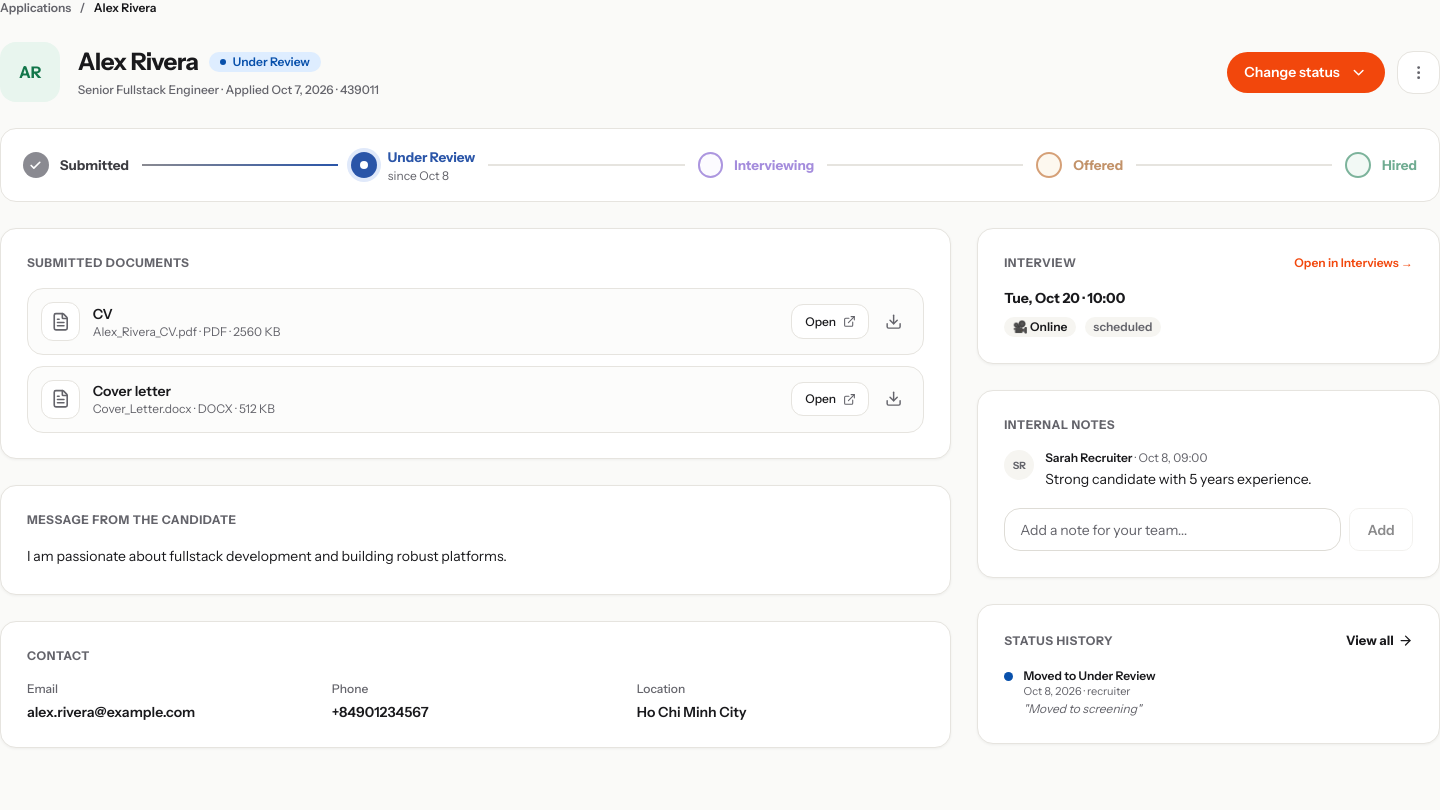
RecruiterApplicationDetailPage › opens status dialog when an action is selected from dropdown menu
The image size is (1440, 810).
Press the mouse on the button "Change status": (1306, 72) left=1226, top=50, right=1386, bottom=94
Press ArrowDown in the button "Change status", box left=1226, top=50, right=1386, bottom=94
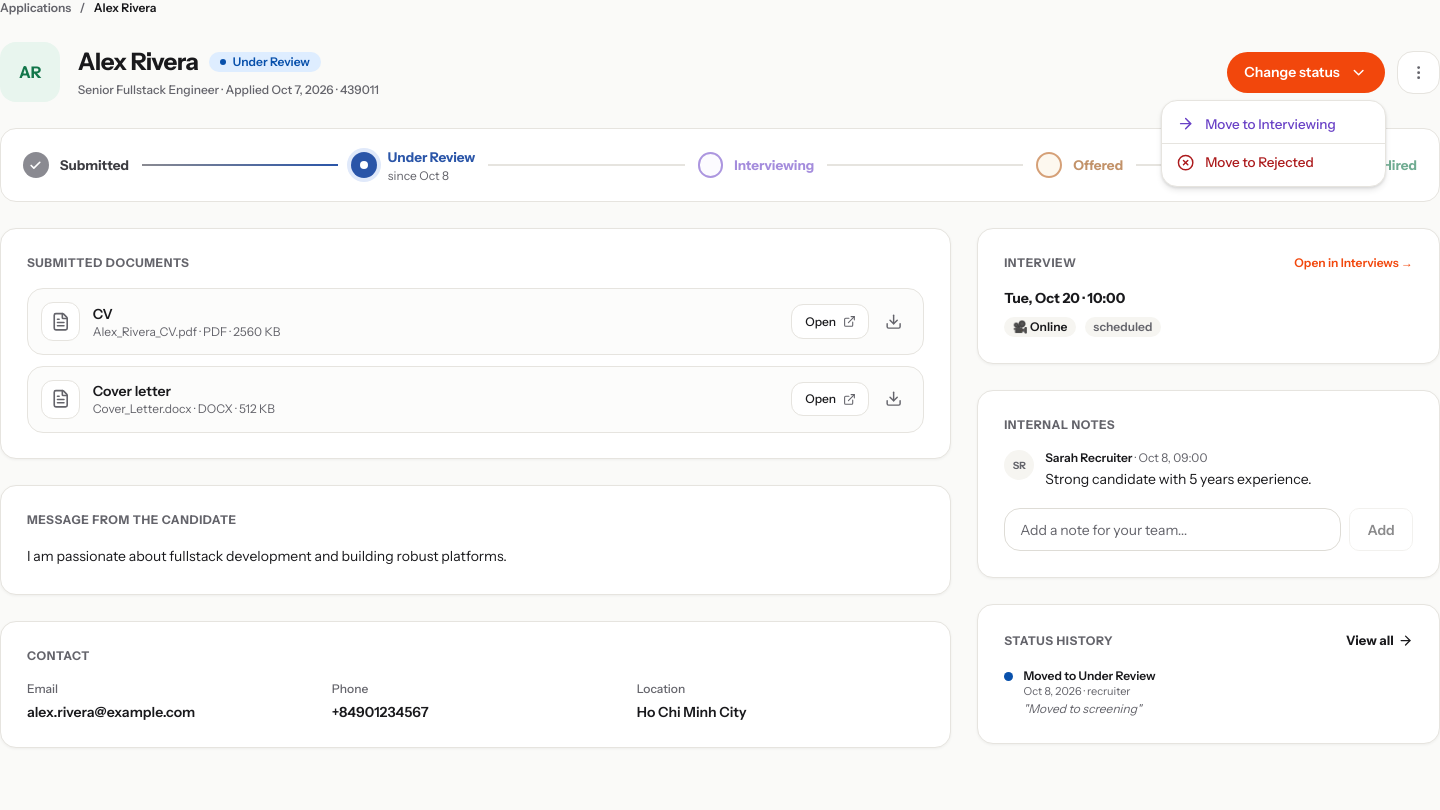
Click the menu item "Move to Interviewing": (1256, 124) left=1177, top=115, right=1336, bottom=133
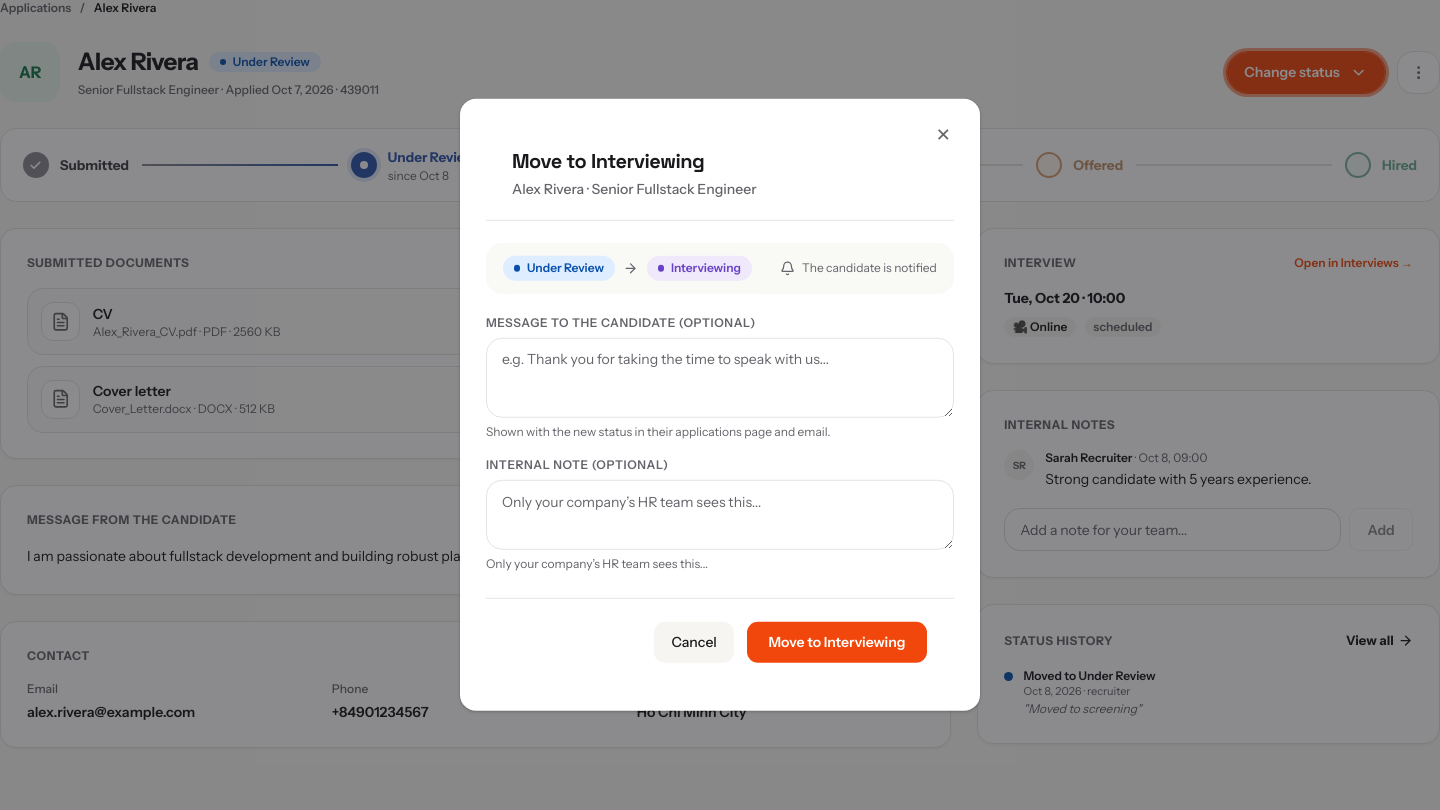
Check: the heading "Move to Interviewing" is shown, box left=512, top=147, right=704, bottom=173
